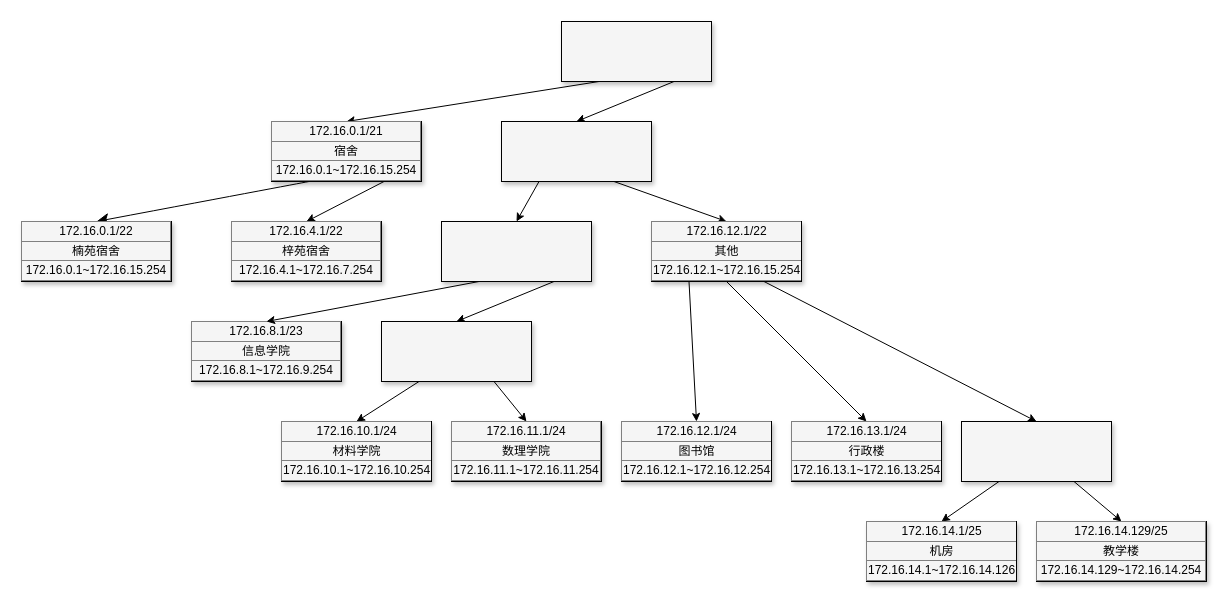
This 1230x606 diagram has some shape labels left out. Here are the shapes that lost their labels. From the top down, the centre of each, then its label:
At point 637,52: "172.16.0.1/20 AAU 172.16.0.1~172.16.15.254".
At point 577,152: "172.16.8.1/21 其他 172.16.0.1~172.16.15.255".
At point 517,252: "172.16.8.1/22 学院 172.16.8.1~172.16.11.255".
At point 457,352: "172.16.10.1/23 其他学院 172.16.10.1~172.16.11.254".
At point 1037,452: "172.16.14.1/24 其他 172.16.14.1~172.16.14.254".
